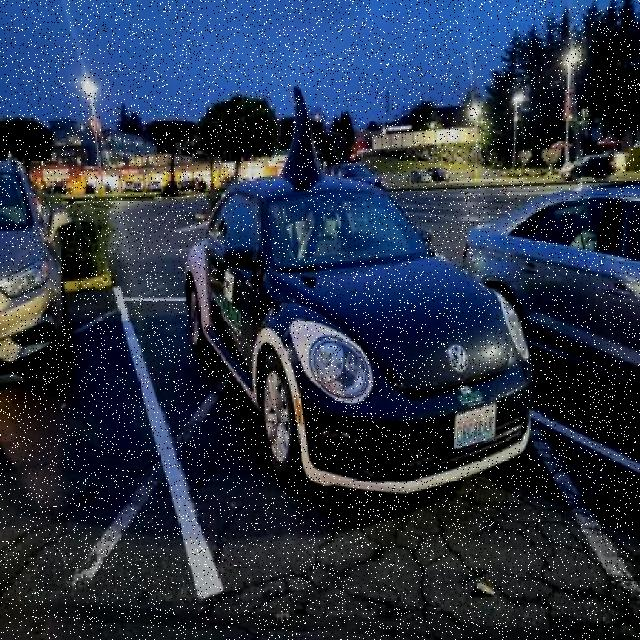licenseplate: (454, 401, 497, 450)
